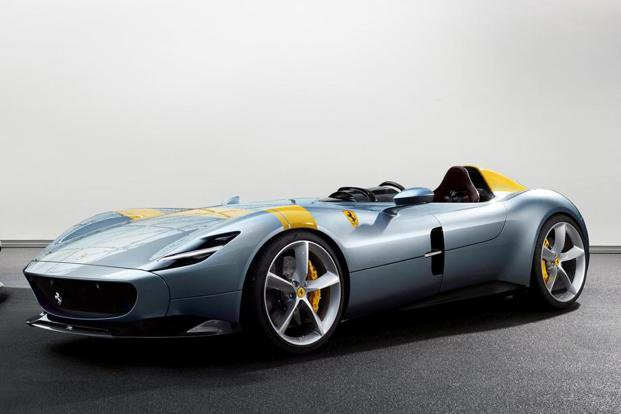car: (17, 160, 595, 361)
